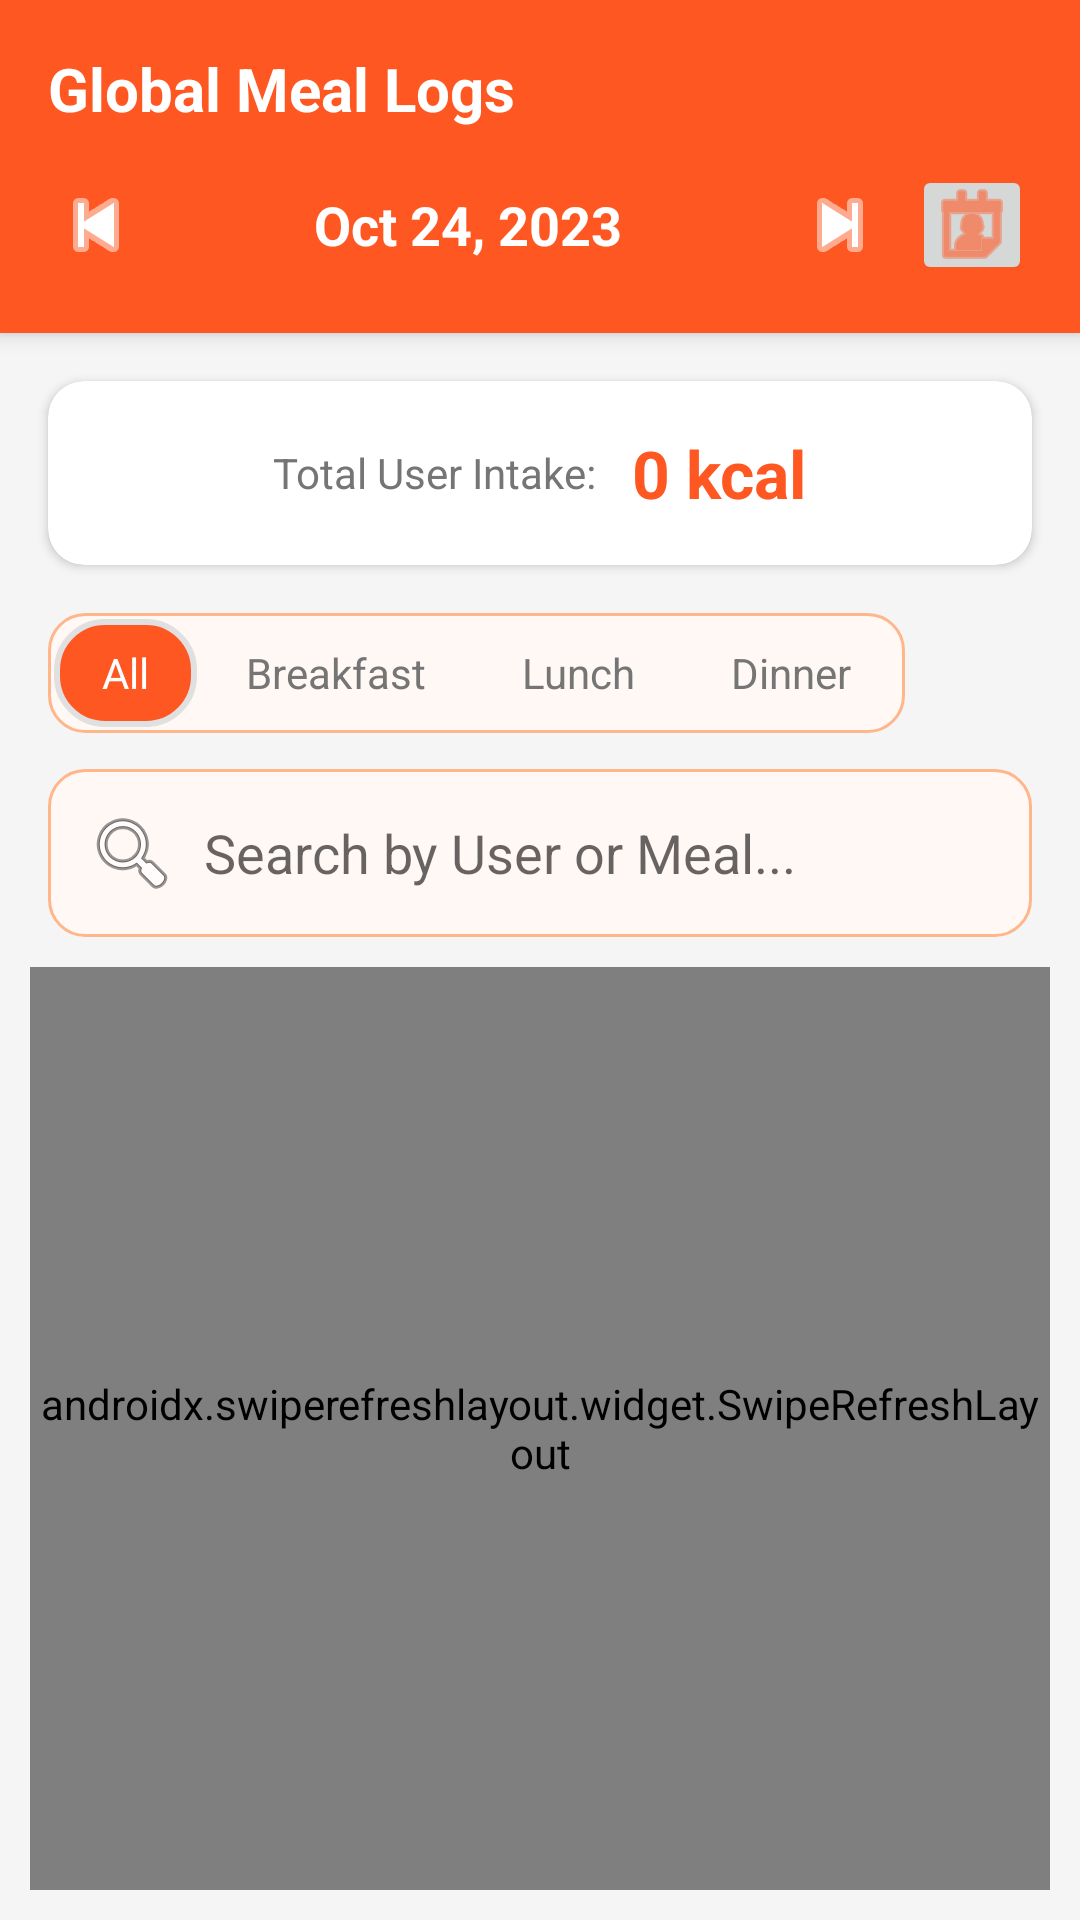

Icon click points for this 1080w x 1920h phone screenshot, format (x,y):
calendar: (972,225)
next: (840,225)
previous: (96,225)
